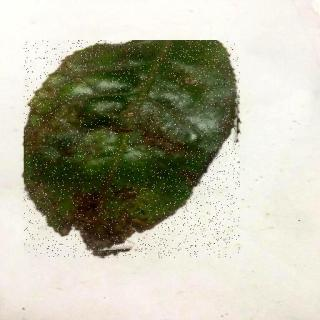Red Leaf Spot: (25, 42, 241, 259)
